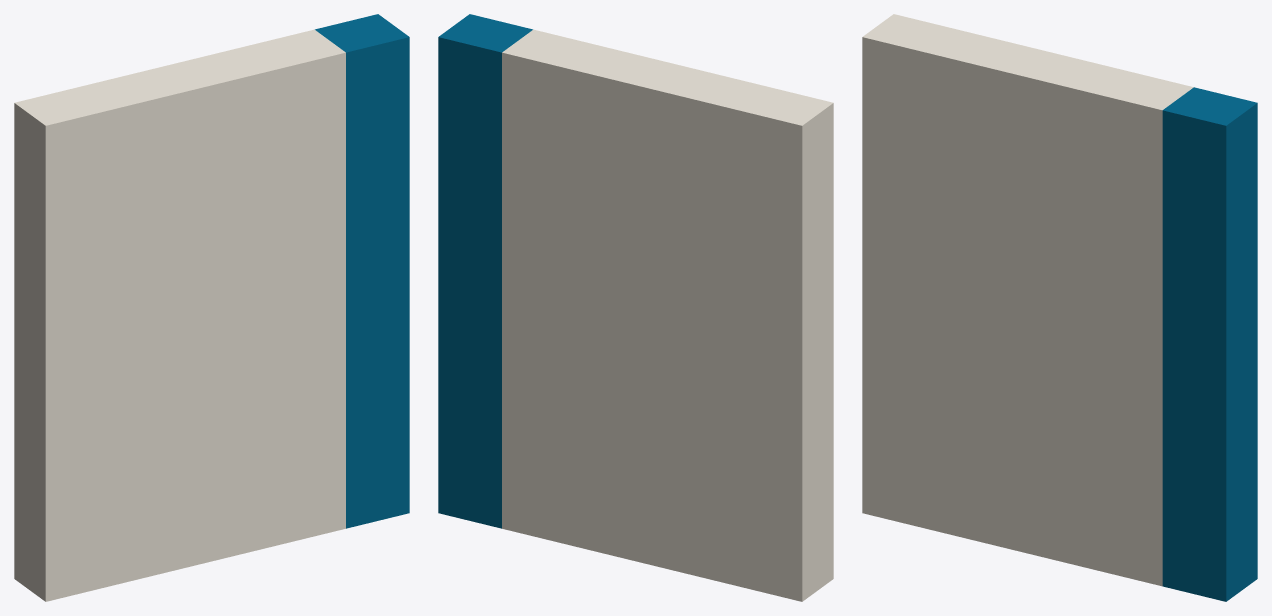
Rendered from G01_005_Book.fbx.
The picture shows the model from 3 angles, left to right: view 1: azimuth 30°, elevation 25°; view 2: azimuth 150°, elevation 25°; view 3: azimuth 330°, elevation 25°; orthographic projection.
Visible parts, largest first — view 1: 立方体.081; view 2: 立方体.081; view 3: 立方体.081.
Boxes of the visible parts, x1=… form: 立方体.081: x1=14, y1=14, x2=409, y2=601; 立方体.081: x1=438, y1=14, x2=833, y2=601; 立方体.081: x1=862, y1=14, x2=1257, y2=601.
Size of the model in its own units: 40 by 50 by 6.
